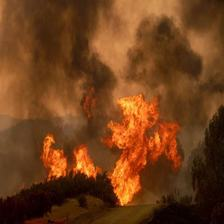fire: (32, 75, 192, 210)
